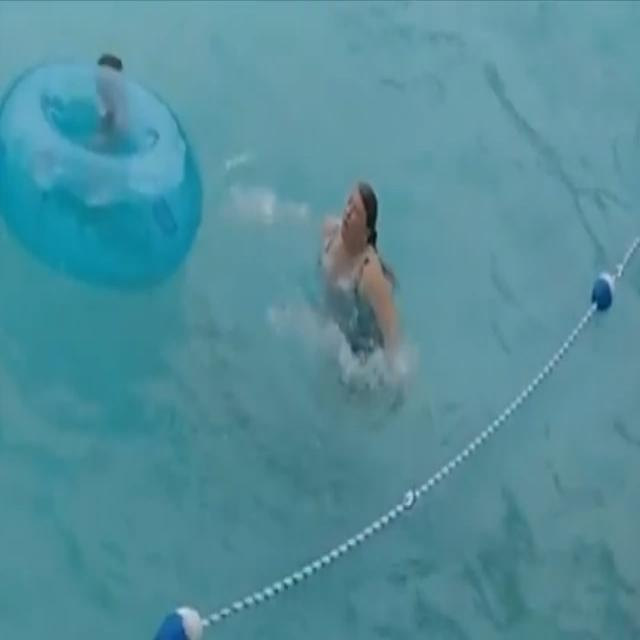Out of Water: (276, 195, 419, 388)
